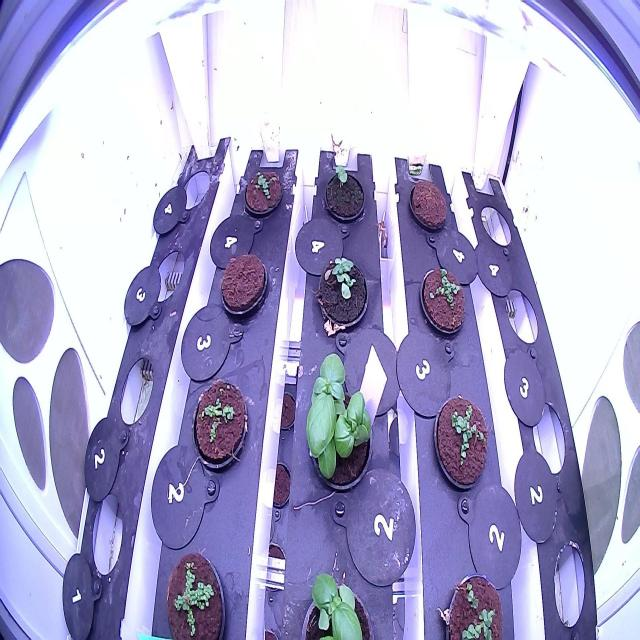empty_pod: (86, 485, 127, 591), (550, 530, 589, 635), (529, 393, 569, 484), (117, 352, 158, 428), (501, 282, 542, 350), (152, 238, 189, 308), (477, 199, 514, 256), (178, 163, 214, 216)
germination: (160, 540, 232, 639), (430, 388, 490, 492), (192, 375, 251, 474), (440, 567, 506, 638), (314, 250, 370, 331), (418, 263, 468, 344), (322, 160, 368, 227), (243, 165, 283, 220)
pod: (217, 246, 269, 322), (405, 173, 450, 238)
